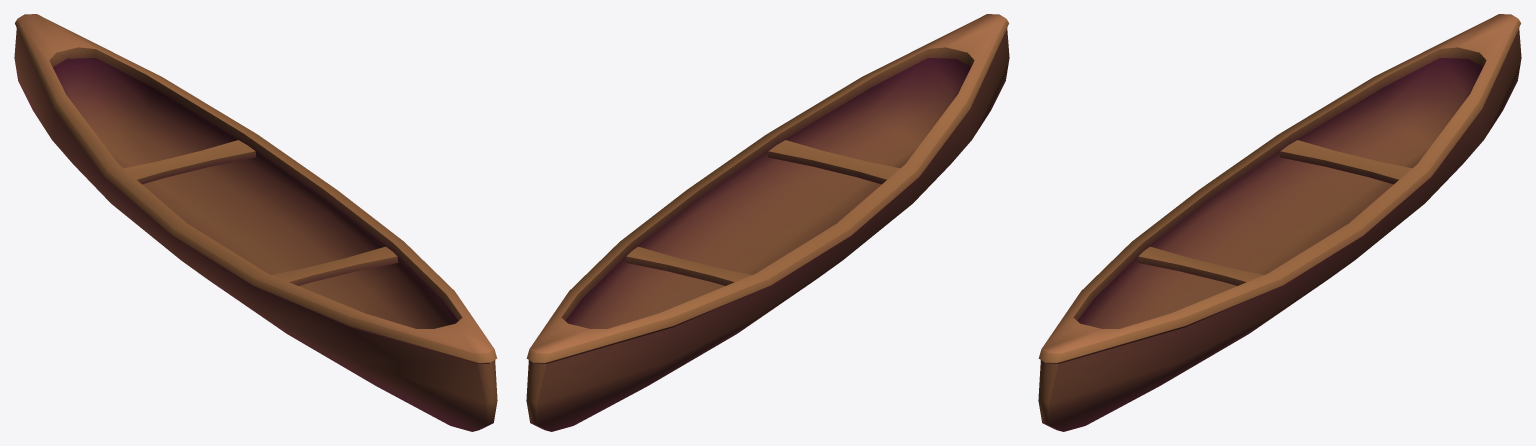
File: Canoe_1A.fbx
3 views of the same model, side by side, from view 1: azimuth 30°, elevation 25°; view 2: azimuth 150°, elevation 25°; view 3: azimuth 330°, elevation 25° (orthographic).
Visible parts, largest first — view 1: Canoe_1A; view 2: Canoe_1A; view 3: Canoe_1A.
Part boxes in pixels (x1,y1,x2,y2): Canoe_1A: (14, 14, 497, 431); Canoe_1A: (526, 14, 1009, 431); Canoe_1A: (1038, 14, 1521, 431).
Size of the model in its own units: 85.06 by 47.97 by 416.
